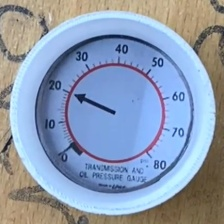gauge: (34, 34, 195, 193)
